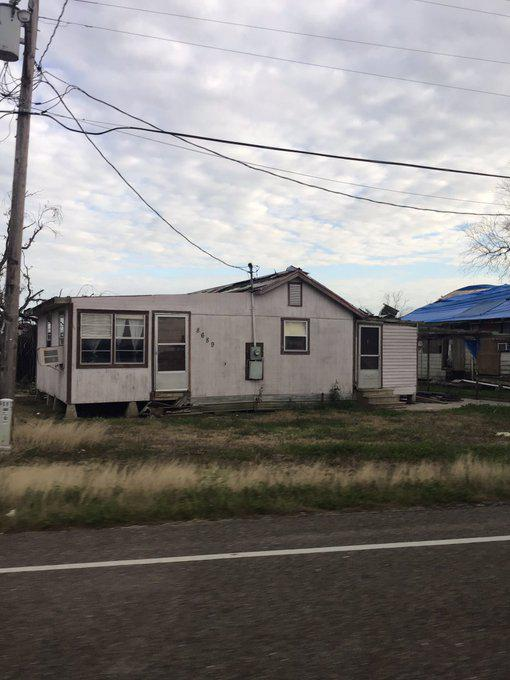minor: (34, 268, 430, 403)
